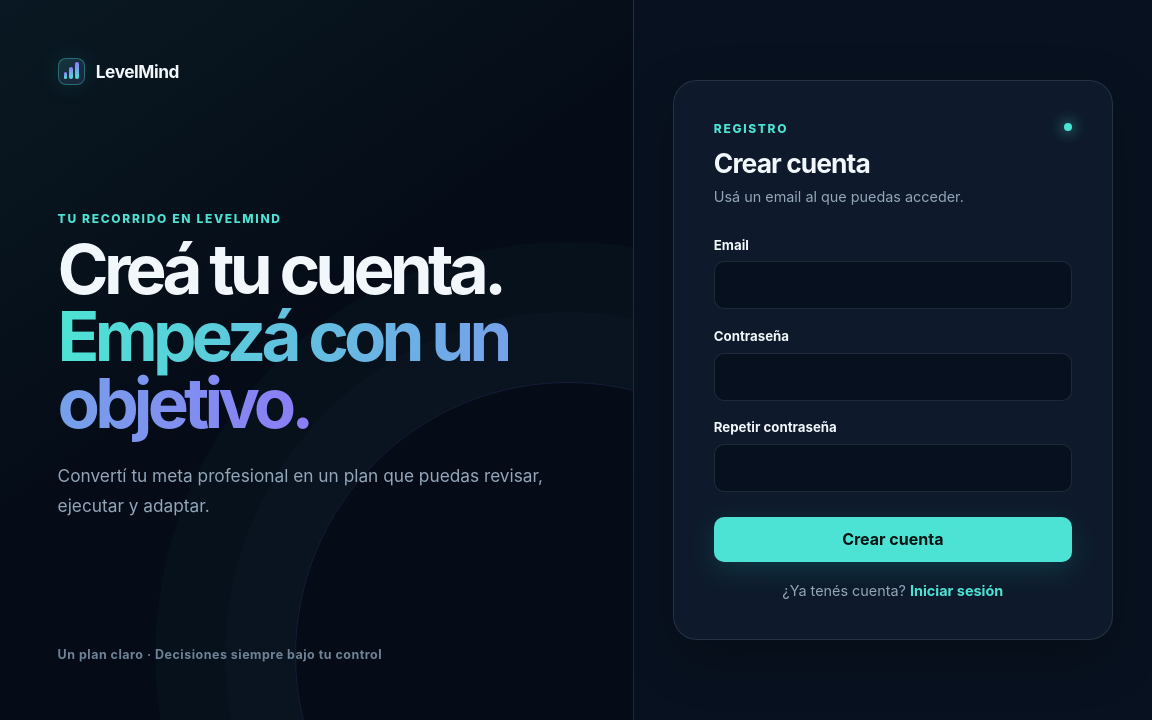
registration with Supabase Auth › maps registration error Password should be at least 6 characters to safe feedback
The image size is (1152, 720).
Step 1. Type "new@example.com" into the field labelled "Email" → point(893, 285), box [714,261,1072,309]
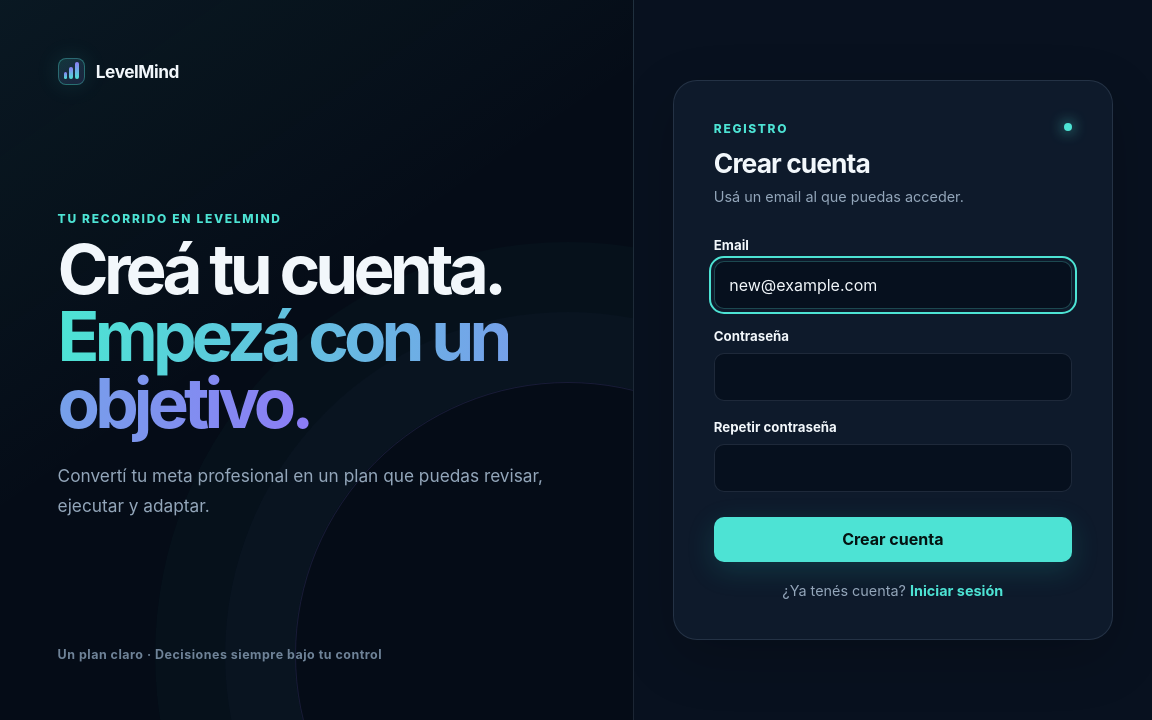
Step 2. Type "secret1" into the password field labelled "Contraseña" → point(893, 376), box [714,352,1072,400]
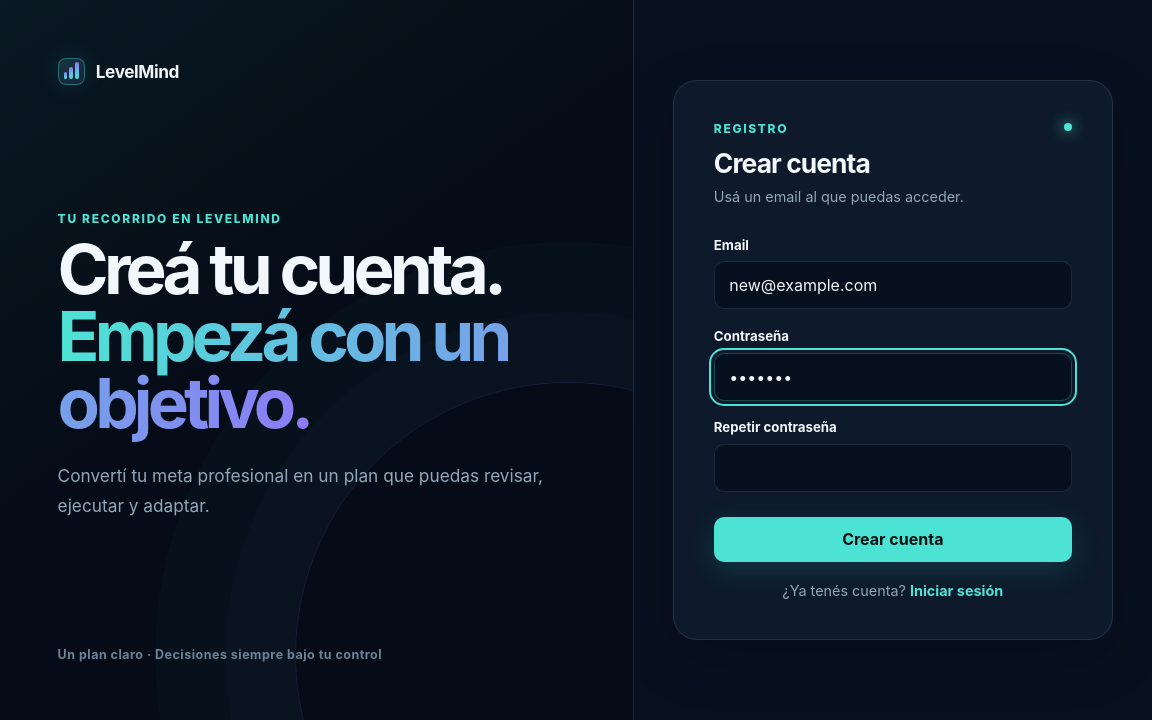
Step 3. Type "secret1" into the password field labelled "Repetir contraseña" → point(893, 468), box [714,444,1072,492]
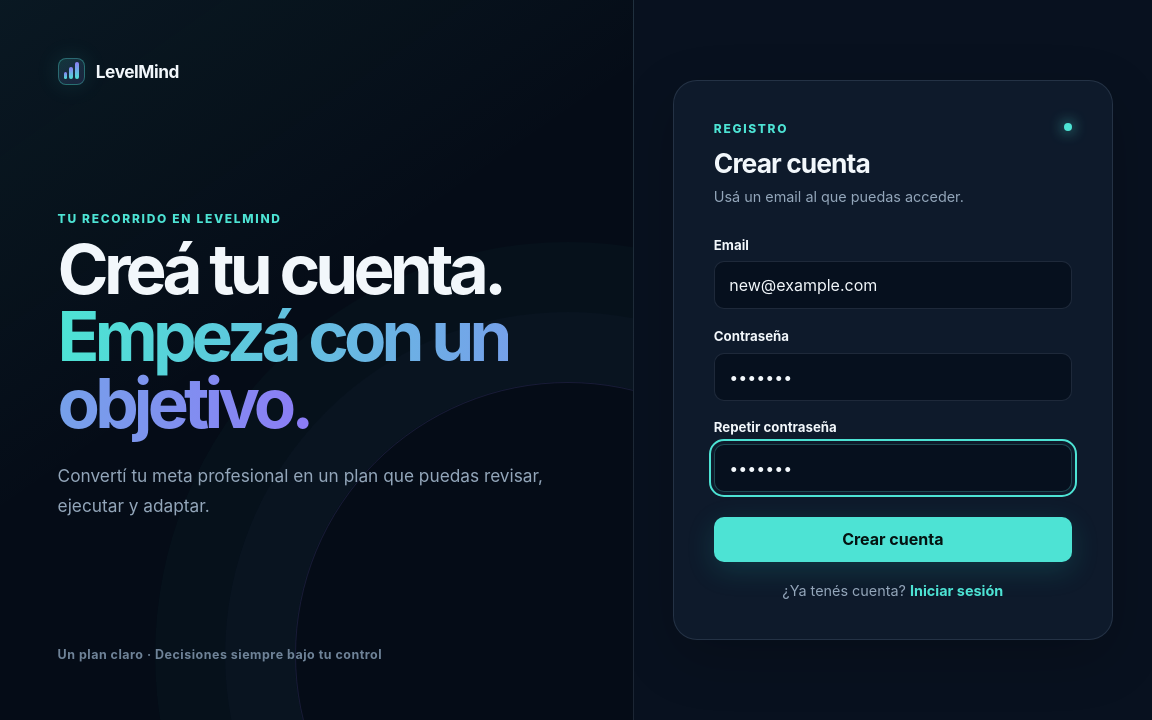
Step 4. Click the button "Crear cuenta" → point(893, 540), box [714,517,1072,562]
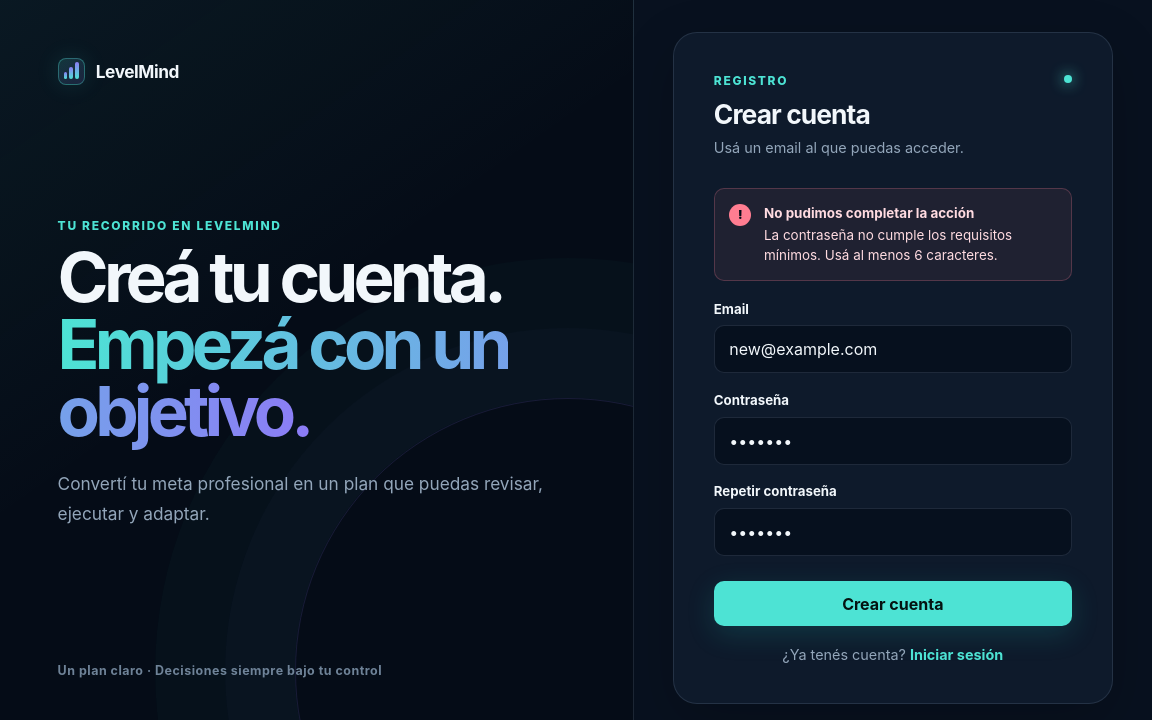
Expected: the message shows "La contraseña no cumple los requisitos mínimos. Usá al menos 6 caracteres.", [764,227,1012,263]
